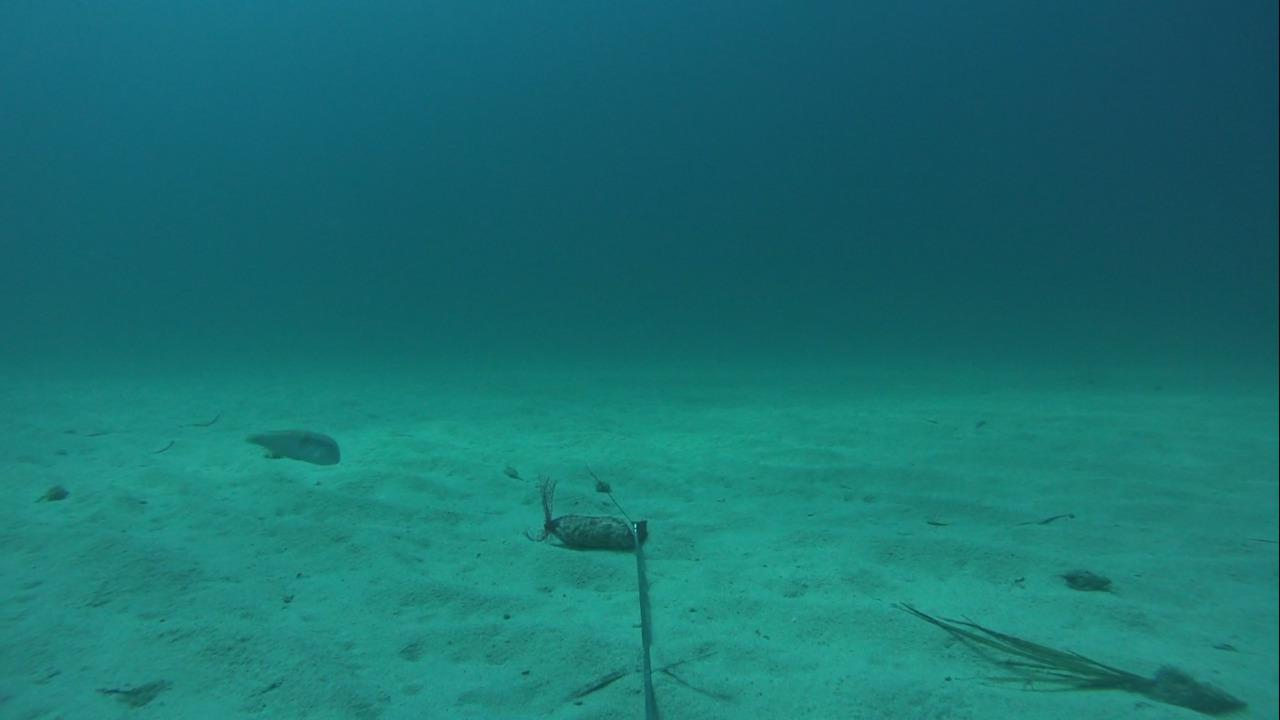raor: (238, 420, 343, 466)
